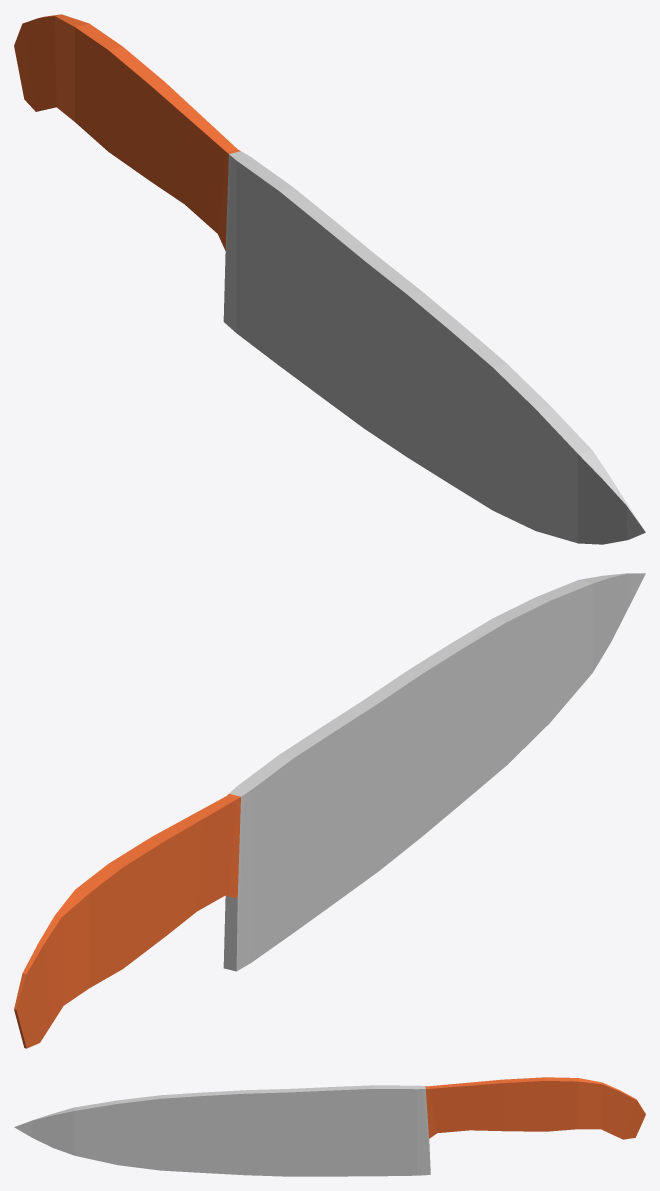
The model's file is knife 1.fbx.
The picture shows the model from 3 angles, top to bottom: view 1: azimuth 30°, elevation 25°; view 2: azimuth 150°, elevation 25°; view 3: azimuth 270°, elevation 25°; orthographic projection. The views are drawn at different scales.
Parts seen in each view (by area): view 1: Cube.001; view 2: Cube.001; view 3: Cube.001.
Part boxes in pixels (box(x1,y1,x2,y2)): Cube.001: box(14, 14, 645, 544); Cube.001: box(14, 573, 645, 1048); Cube.001: box(14, 1077, 645, 1176).
Size of the model in its own units: 3.43 by 43.16 by 258.
